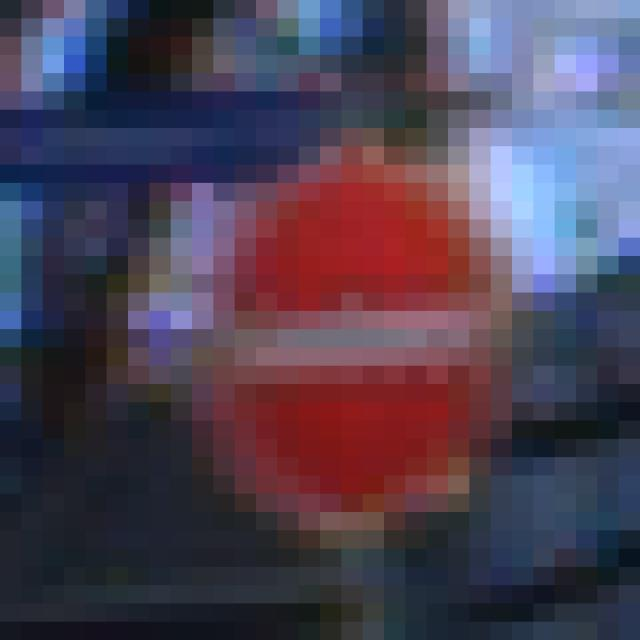No Entry: (129, 111, 534, 550)
